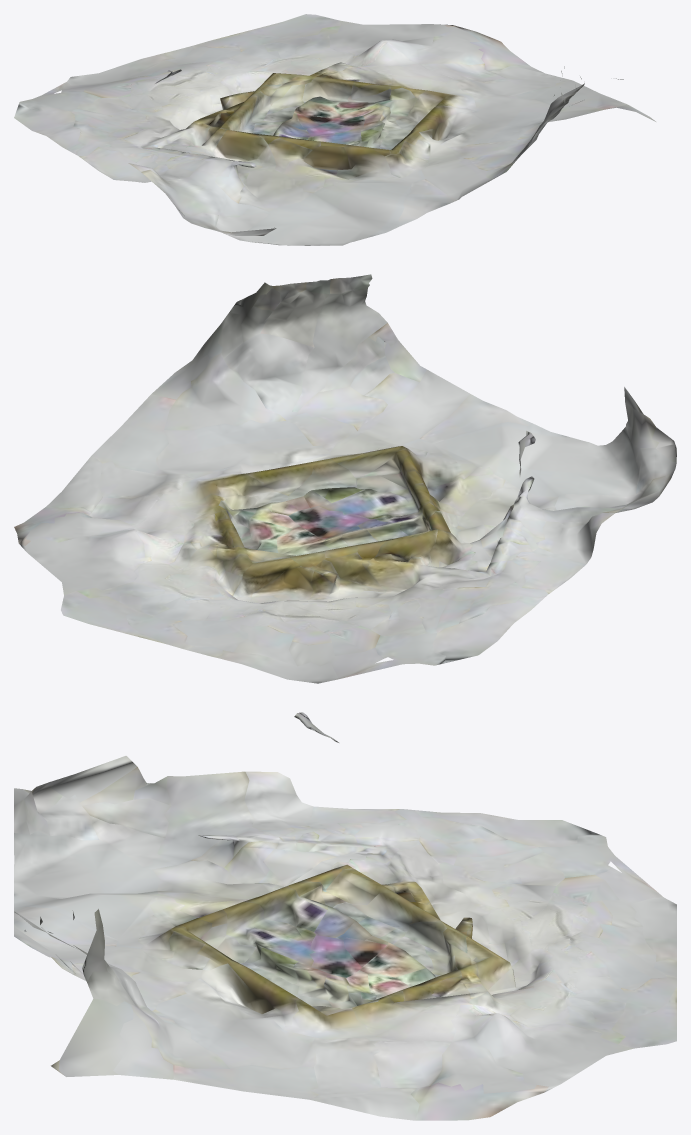
Rendered from hall.glb.
3 views of the same model, one above another, from view 1: azimuth 30°, elevation 25°; view 2: azimuth 150°, elevation 25°; view 3: azimuth 270°, elevation 25° (orthographic). The views are drawn at different scales.
Bounding box in the file's own units: 1.81 × 0.5065 × 1.81.
Materials: 1 (1 with a texture image).
